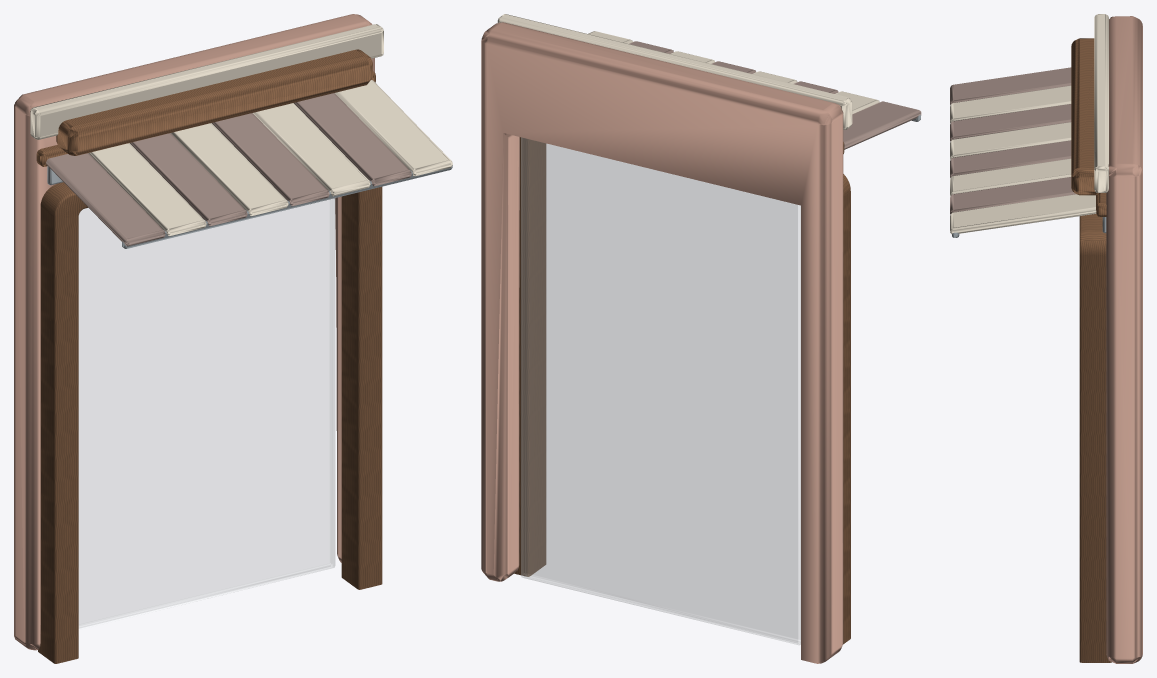
The model's file is Shopfront.glb.
3 renders of one model, left to right at view 1: azimuth 30°, elevation 25°; view 2: azimuth 150°, elevation 25°; view 3: azimuth 270°, elevation 25°, orthographic. The views are drawn at different scales.
Visible parts, largest first — view 1: PBK_glass.001, PBK_Continuous_Frame_Brick_Shopfront.003, PBK_substrate.001, PBK_signboard.001, PBK_floor_band.001, PBK_awning_stripe.001, PBK_awning_stripe.008, PBK_awning_stripe.002, PBK_awning_stripe.003, PBK_awning_stripe.005, PBK_awning_stripe.006, PBK_awning_stripe.004 (+2 smaller); view 2: PBK_glass.001, PBK_substrate.001, PBK_Continuous_Frame_Brick_Shopfront.003, PBK_floor_band.001, PBK_awning_stripe.001; view 3: PBK_substrate.001, PBK_Continuous_Frame_Brick_Shopfront.003, PBK_signboard.001, PBK_awning_stripe.008, PBK_floor_band.001, PBK_awning_stripe.007, PBK_awning_stripe.001, PBK_awning_stripe.002, PBK_awning_stripe.005, PBK_awning_stripe.003, PBK_awning_stripe.004, PBK_awning_stripe.006.
Boxes of the visible parts, x1,y1,x2,y2 form: PBK_glass.001: (79, 198, 335, 629); PBK_Continuous_Frame_Brick_Shopfront.003: (38, 182, 382, 663); PBK_substrate.001: (14, 14, 374, 650); PBK_signboard.001: (56, 49, 372, 155); PBK_floor_band.001: (30, 24, 383, 139); PBK_awning_stripe.001: (46, 153, 165, 246); PBK_awning_stripe.008: (335, 80, 452, 176); PBK_awning_stripe.002: (89, 143, 206, 236); PBK_awning_stripe.003: (130, 133, 247, 226); PBK_awning_stripe.005: (212, 113, 329, 206); PBK_awning_stripe.006: (253, 103, 370, 196); PBK_awning_stripe.004: (171, 123, 288, 216); PBK_glass.001: (521, 137, 800, 644); PBK_substrate.001: (481, 22, 843, 663); PBK_Continuous_Frame_Brick_Shopfront.003: (514, 137, 850, 644); PBK_floor_band.001: (497, 14, 852, 129); PBK_awning_stripe.001: (843, 101, 921, 149); PBK_substrate.001: (1106, 16, 1142, 663); PBK_Continuous_Frame_Brick_Shopfront.003: (1079, 214, 1111, 662); PBK_signboard.001: (1071, 38, 1100, 195); PBK_awning_stripe.008: (950, 194, 1096, 234); PBK_floor_band.001: (1094, 14, 1108, 192); PBK_awning_stripe.007: (950, 177, 1076, 214); PBK_awning_stripe.001: (950, 67, 1071, 104); PBK_awning_stripe.002: (950, 85, 1071, 123); PBK_awning_stripe.005: (950, 140, 1071, 177); PBK_awning_stripe.003: (950, 104, 1071, 141); PBK_awning_stripe.004: (950, 122, 1071, 159); PBK_awning_stripe.006: (950, 158, 1071, 196).
Size of the model in its own units: 2 by 3 by 1.05.
Materials: 7 (2 with a texture image).
